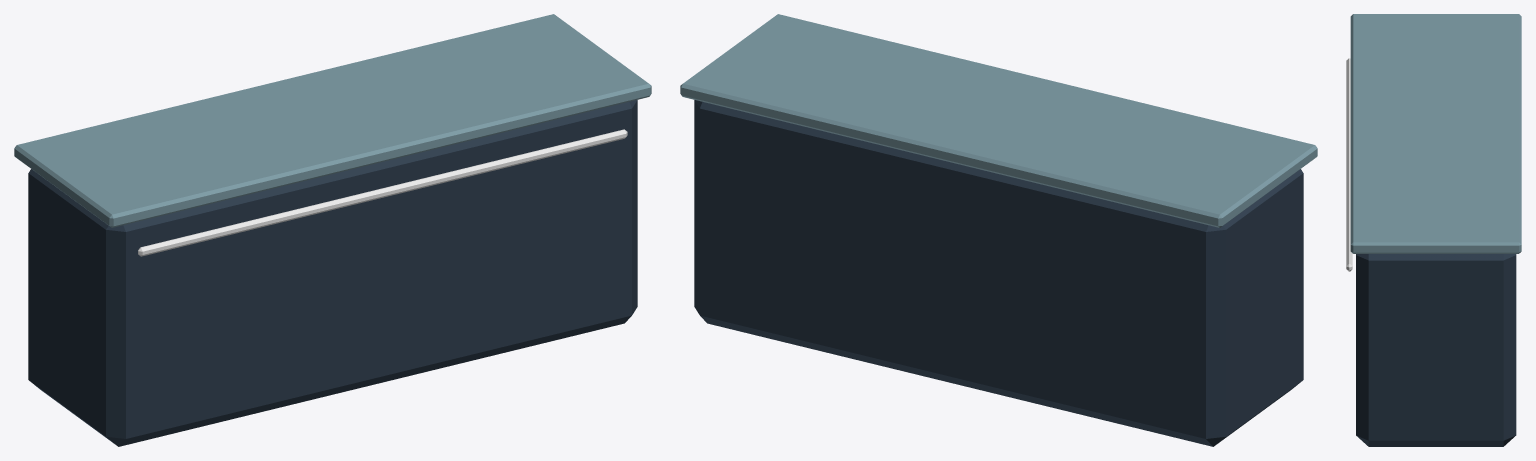
Rendered from Cover.fbx.
3 views of the same model, side by side, from view 1: azimuth 30°, elevation 25°; view 2: azimuth 150°, elevation 25°; view 3: azimuth 270°, elevation 25° (orthographic). The views are drawn at different scales.
Visible parts, largest first — view 1: Cover_Mesh; view 2: Cover_Mesh; view 3: Cover_Mesh.
Boxes of the visible parts, x1,y1,x2,y2 form: Cover_Mesh: [14, 14, 651, 446]; Cover_Mesh: [680, 14, 1317, 446]; Cover_Mesh: [1346, 14, 1521, 446].
Size of the model in its own units: 510 by 218 by 164.
